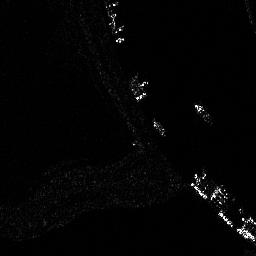ship: (105, 1, 126, 43), (194, 103, 213, 124)
